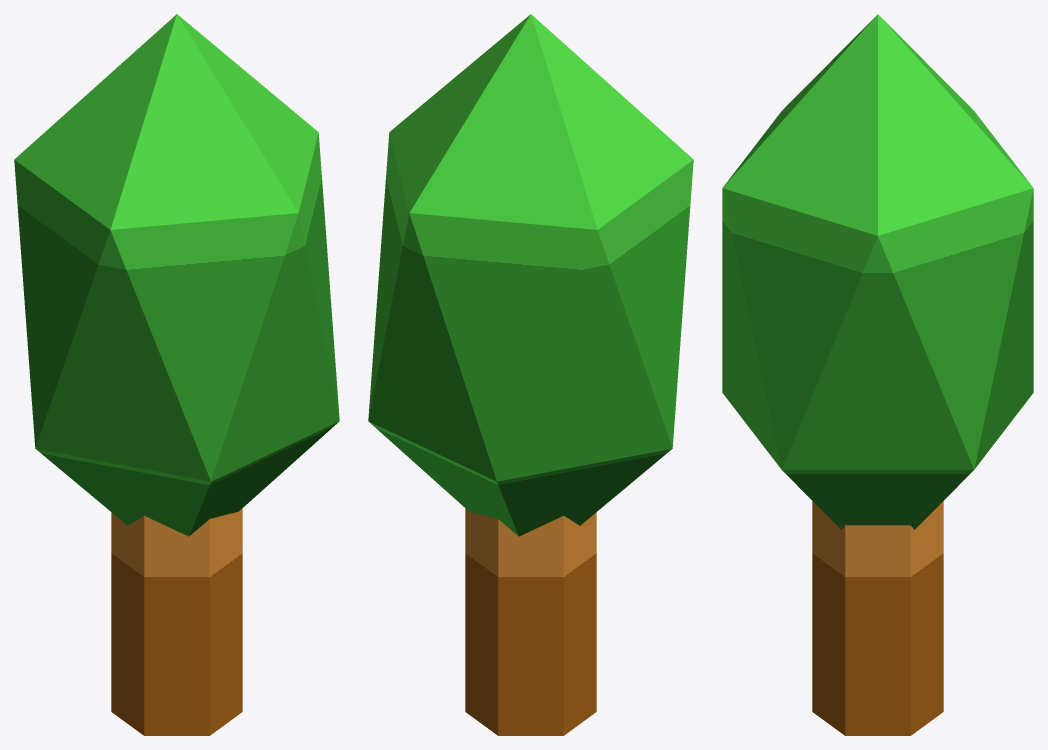
Rendered from OtherTree.fbx.
3 renders of one model, left to right at view 1: azimuth 30°, elevation 25°; view 2: azimuth 150°, elevation 25°; view 3: azimuth 270°, elevation 25°, orthographic.
Parts seen in each view (by area): view 1: OtherTree; view 2: OtherTree; view 3: OtherTree.
Part boxes in pixels (<box>): OtherTree: <box>14,14,339,735</box>; OtherTree: <box>368,14,693,735</box>; OtherTree: <box>722,14,1033,735</box>.
Bounding box in the file's own units: 51.86 × 122 × 49.32.
